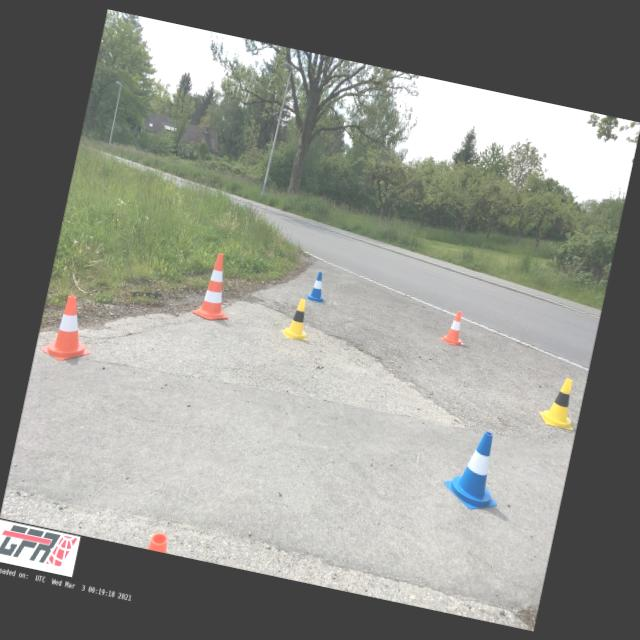blue_cone: (439, 424, 512, 514), (304, 270, 328, 302)
large_orange_cone: (190, 249, 241, 324)
orange_cone: (38, 292, 100, 366), (440, 308, 470, 346)
yellow_cone: (537, 373, 582, 431), (281, 296, 314, 340)
